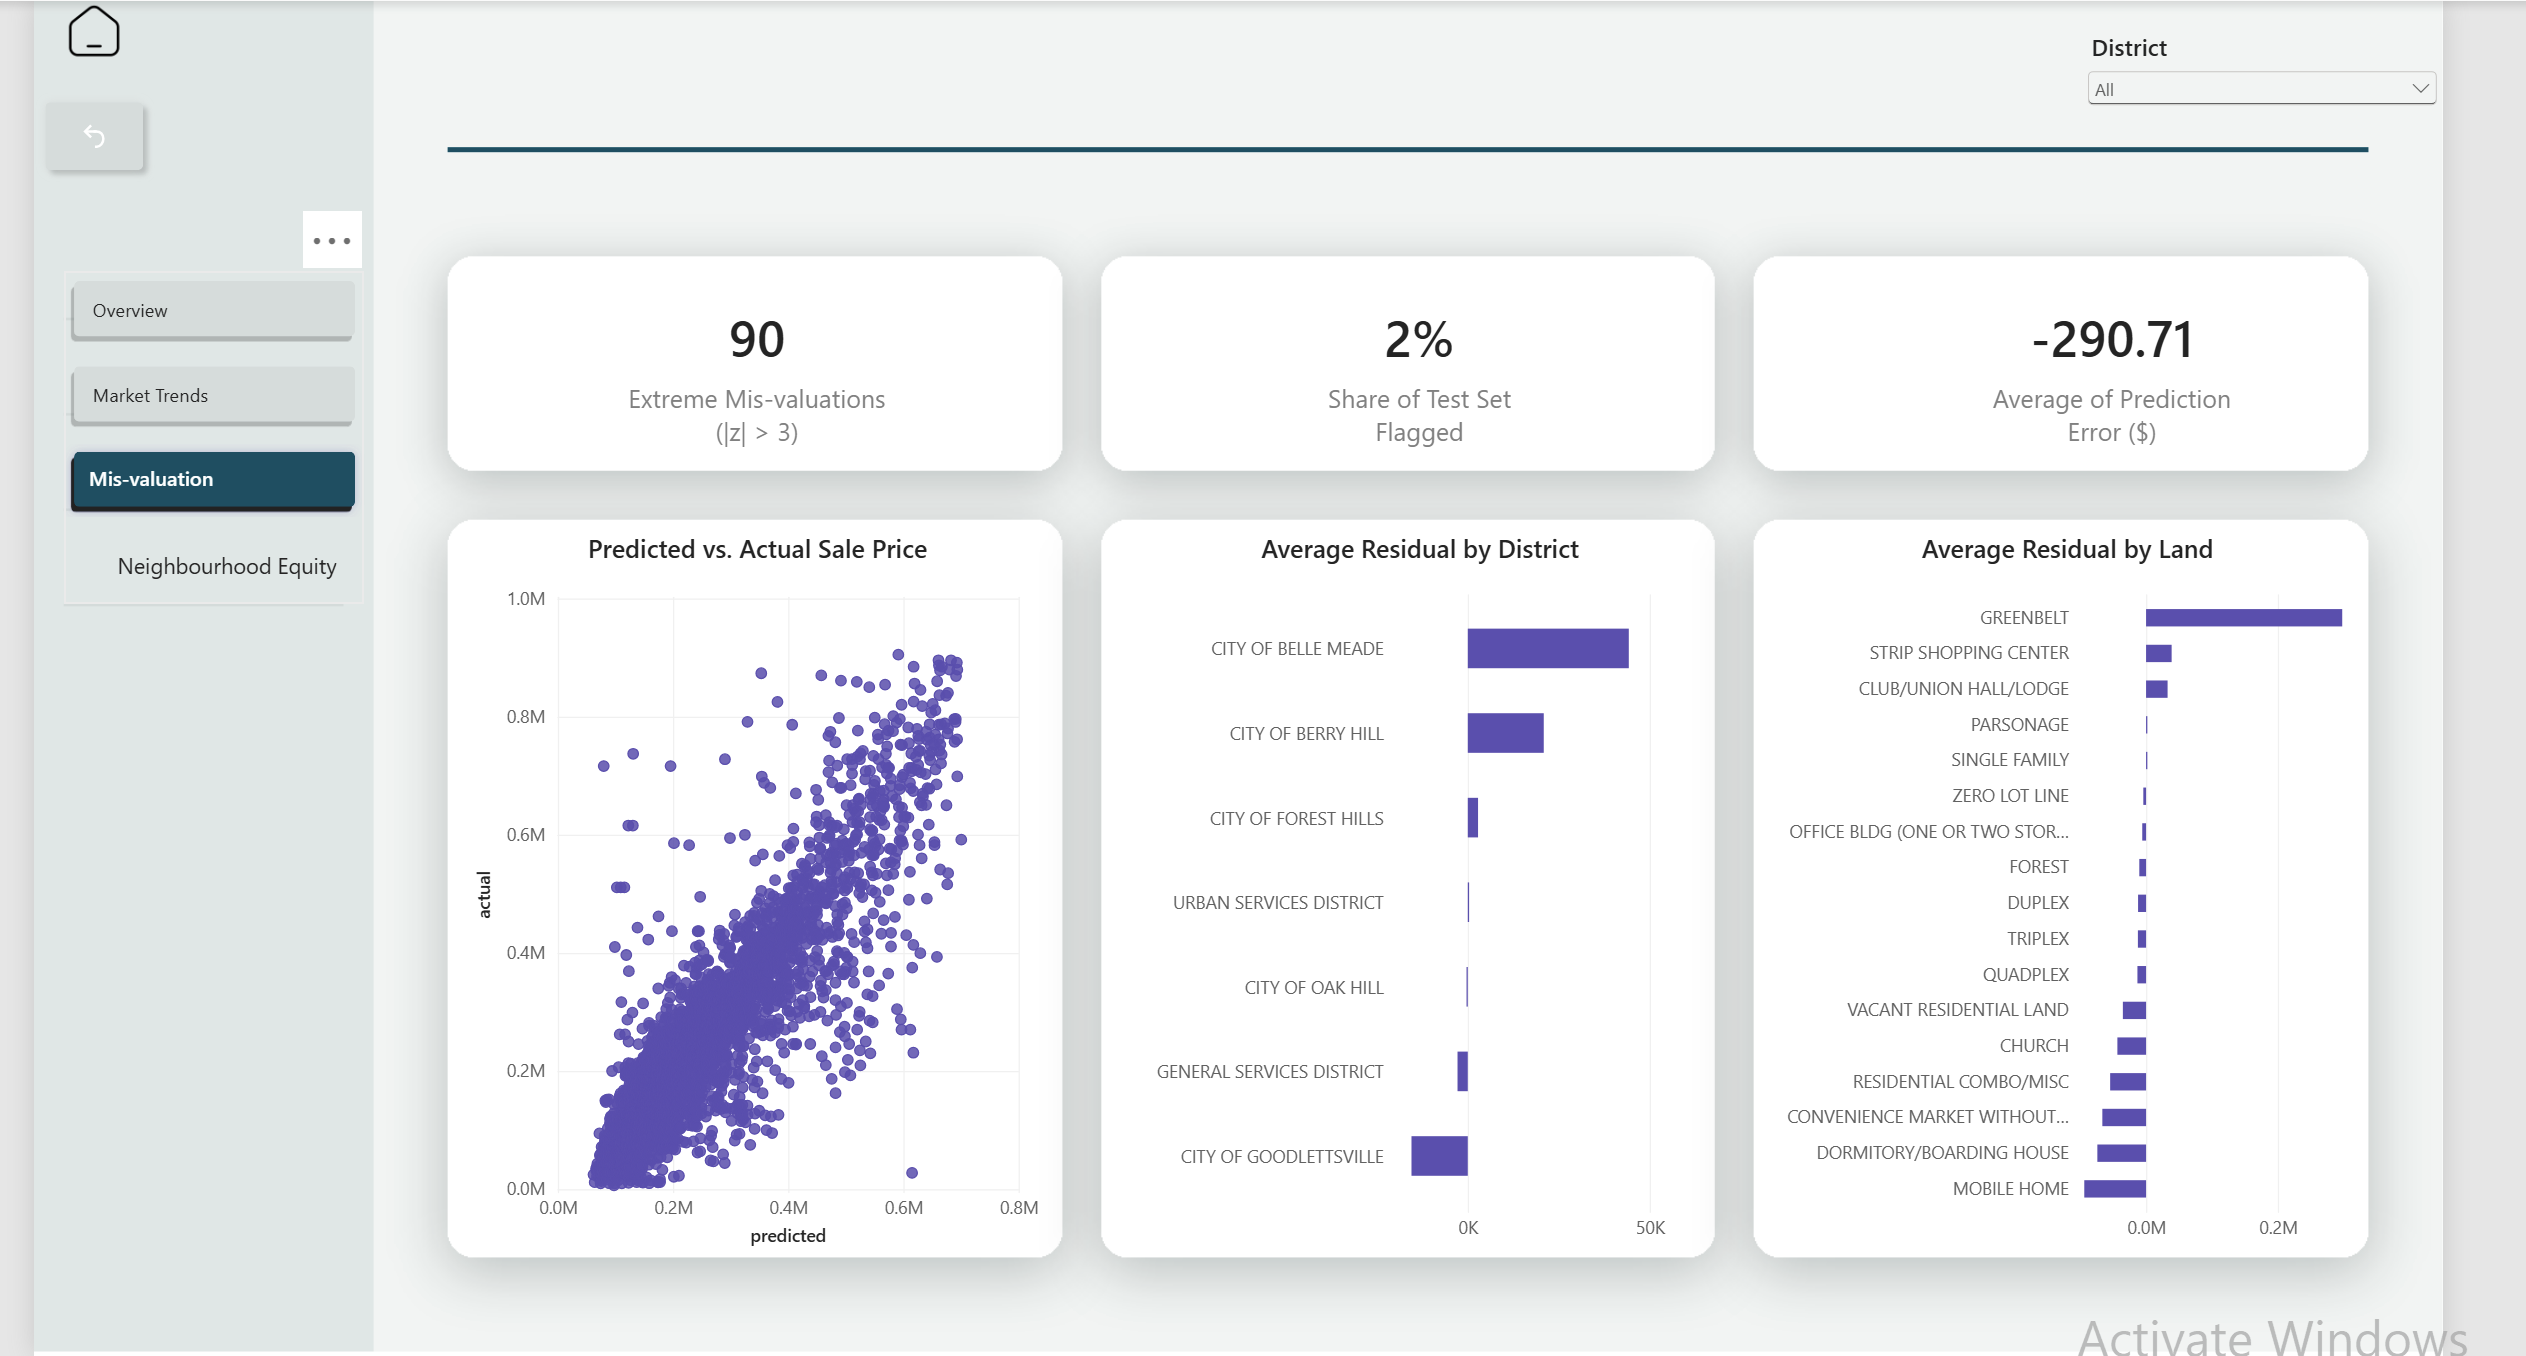

Layout of this report page (visuals, bound fields, positions):
{"tool":"powerbi","page":{"name":"Mis-valuation","canvas":[1920,1080],"ordinal":2},"visuals":[{"type":"cardVisual","fields":{"Data":["misvaluation.Extreme Count"]},"box":[456,216,240,168],"z":0},{"type":"cardVisual","fields":{"Data":["misvaluation.Extreme Share"]},"box":[984,216,240,168],"z":1000},{"type":"cardVisual","fields":{"Data":["Avg(misvaluation.residual)"]},"box":[1536,216,240,168],"z":2000},{"type":"scatterChart","title":"Predicted vs. Actual Sale Price","fields":{"X":["misvaluation.predicted"],"Y":["misvaluation.actual"]},"box":[336,408,480,600],"z":3000},{"type":"barChart","title":"Average Residual by District","fields":{"Category":["misvaluation.tax_district"],"Y":["Avg(misvaluation.residual)"]},"box":[864,408,480,600],"z":4000},{"type":"barChart","title":"Average Residual by Land","fields":{"Category":["misvaluation.land_use"],"Y":["Avg(misvaluation.residual)"]},"box":[1368,408,504,600],"z":5000},{"type":"slicer","fields":{"Values":["misvaluation.tax_district"]},"box":[1632,24,288,96],"z":6000},{"type":"image","title":"Logo","box":[24,0,48,48],"z":7000},{"type":"pageNavigator","title":"Menu Buttons","box":[24,216,240,264],"z":8000},{"type":"actionButton","box":[0,72,96,72],"z":8001}]}

Visuals, with their boxes on the page's 1920x1080 design canvas (x1, y1, x2, y2). These are canvas units, not pixel positions in the 2526x1356 screenshot, which may show the page scaled, cropped or inside an application window:
cardVisual - misvaluation.Extreme Count: 456, 216, 696, 384
cardVisual - misvaluation.Extreme Share: 984, 216, 1224, 384
cardVisual - Avg(misvaluation.residual): 1536, 216, 1776, 384
"Predicted vs. Actual Sale Price" scatterChart: 336, 408, 816, 1008
"Average Residual by District" barChart: 864, 408, 1344, 1008
"Average Residual by Land" barChart: 1368, 408, 1872, 1008
slicer - misvaluation.tax_district: 1632, 24, 1920, 120
"Logo" image: 24, 0, 72, 48
"Menu Buttons" pageNavigator: 24, 216, 264, 480
actionButton: 0, 72, 96, 144
